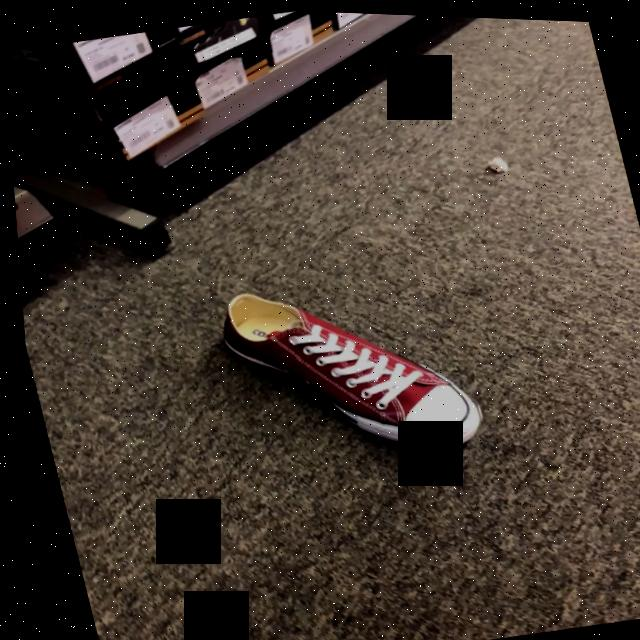shoe: (217, 293, 475, 448)
